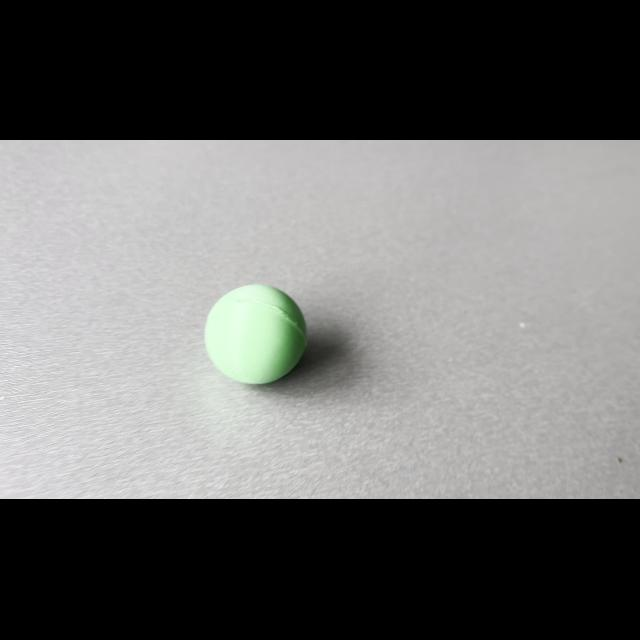objects: (195, 277, 315, 388)
